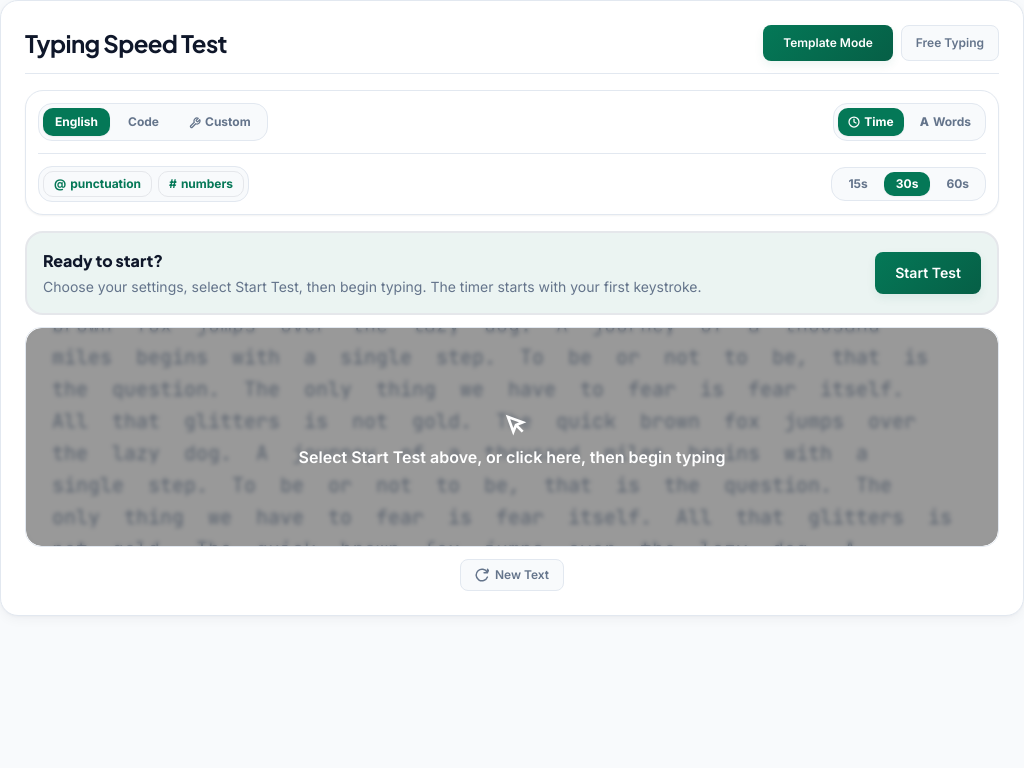
Typing Speed Test start guidance › requires custom text before enabling the start action
This screenshot has width=1024, height=768.
Click the button "Custom" at (220, 122), box [177,108,263,136]
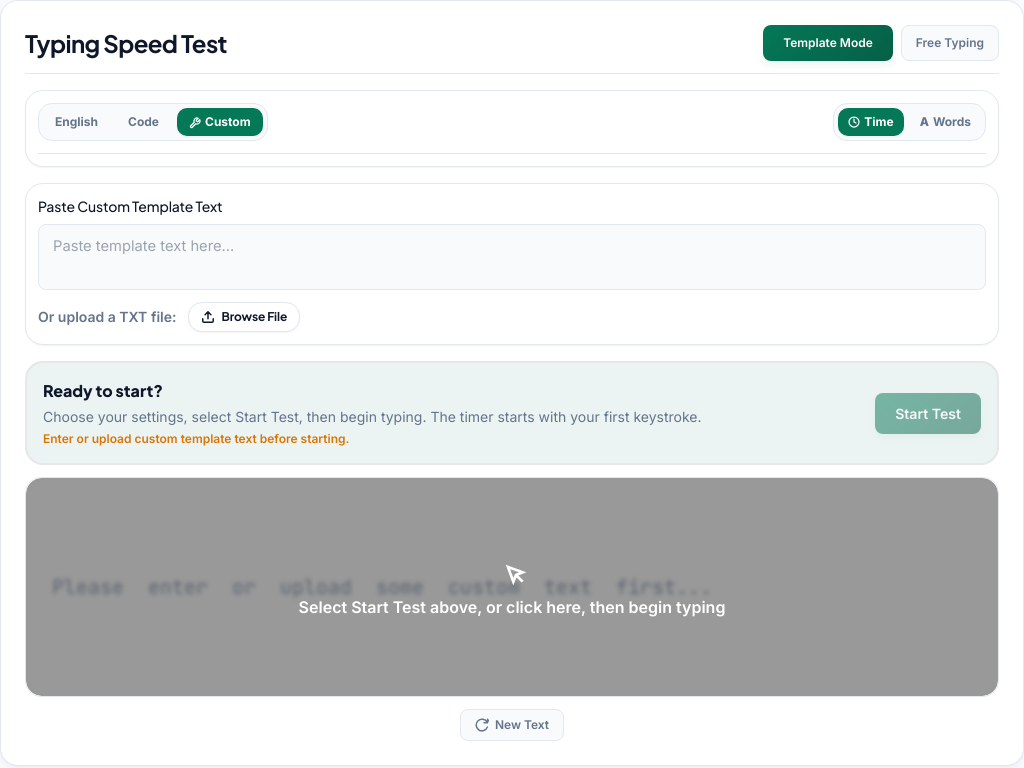
Now the button "Start Test" is disabled, box [875,393,981,434]
Now the text "Enter or upload custom template text before starting." is shown, box [43,431,349,446]
